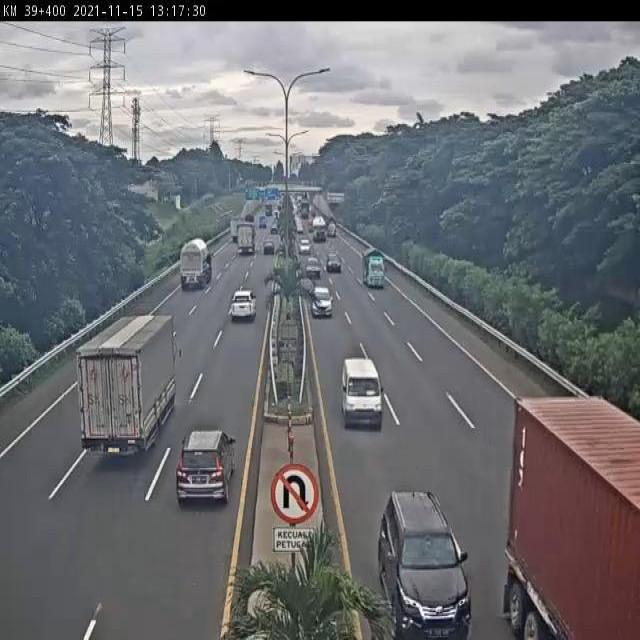bus-s-: (341, 355, 386, 429)
car: (377, 484, 478, 640), (175, 425, 237, 508), (229, 288, 258, 325), (308, 284, 335, 320), (303, 254, 321, 278), (325, 252, 342, 273)
truck-l-: (176, 238, 214, 290)
truck-m-: (78, 312, 178, 461), (358, 250, 388, 290)
